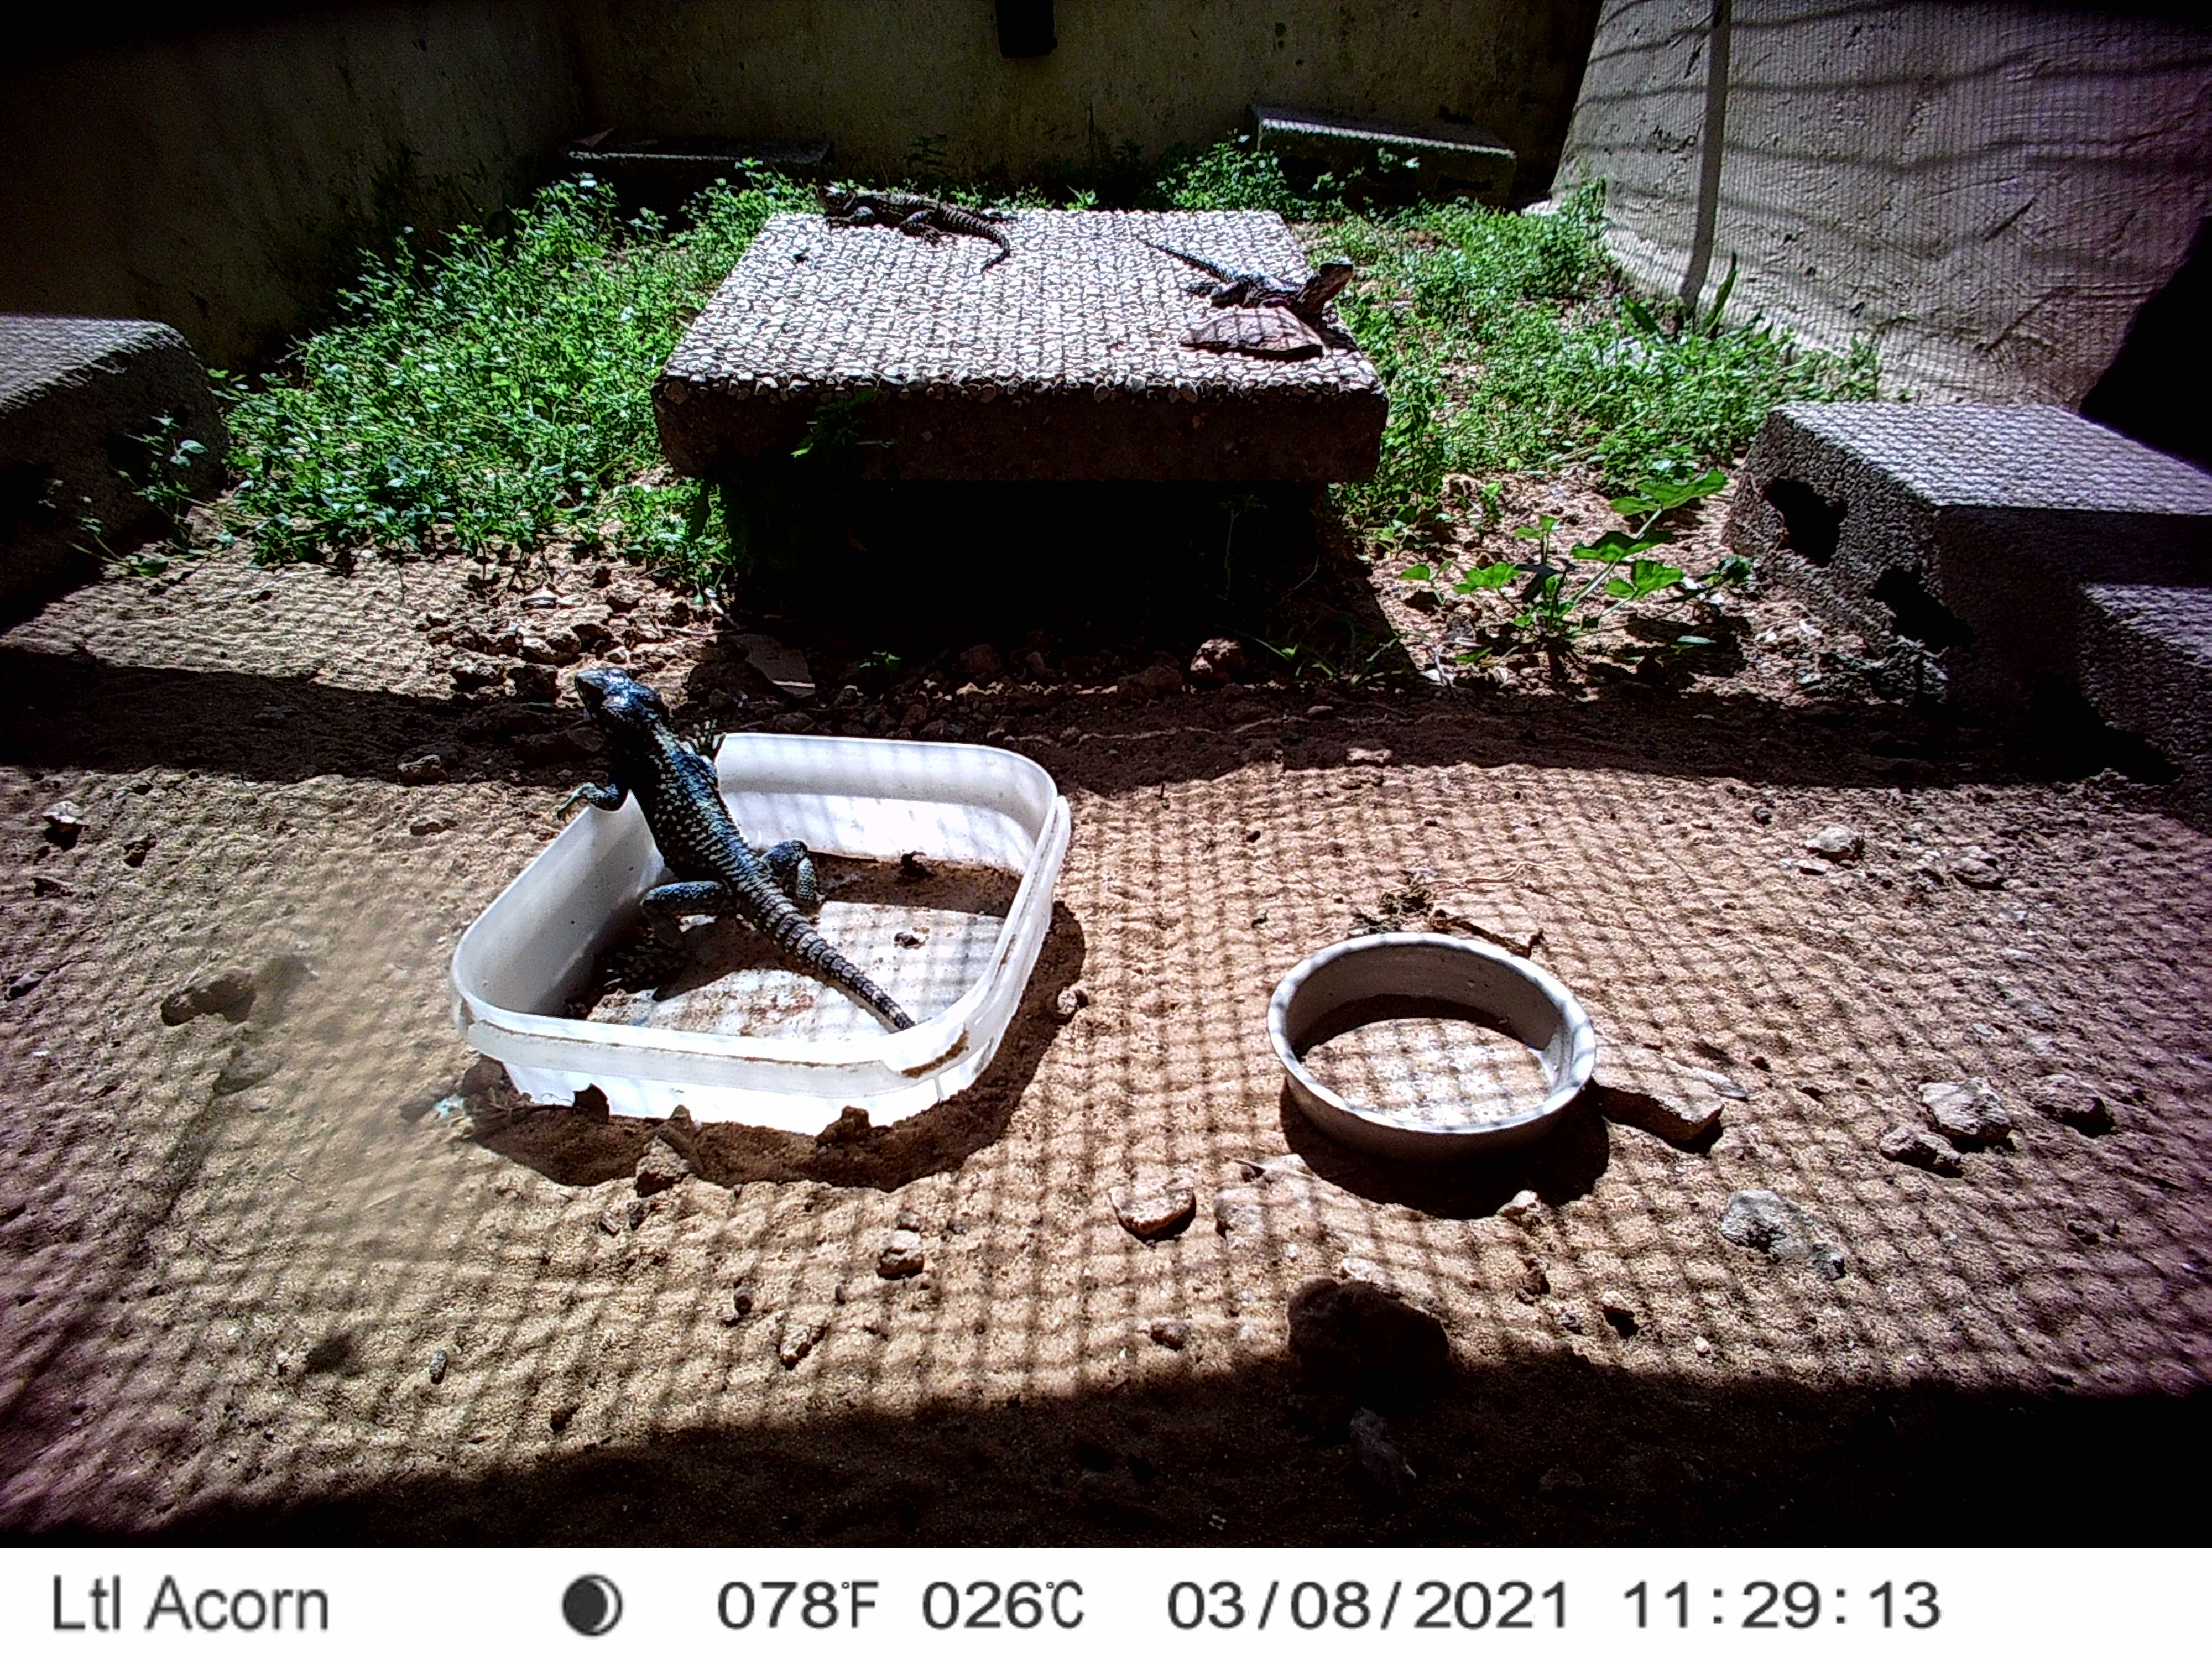lizard: (554, 662, 937, 1049), (1136, 227, 1355, 331), (817, 178, 1014, 277)
